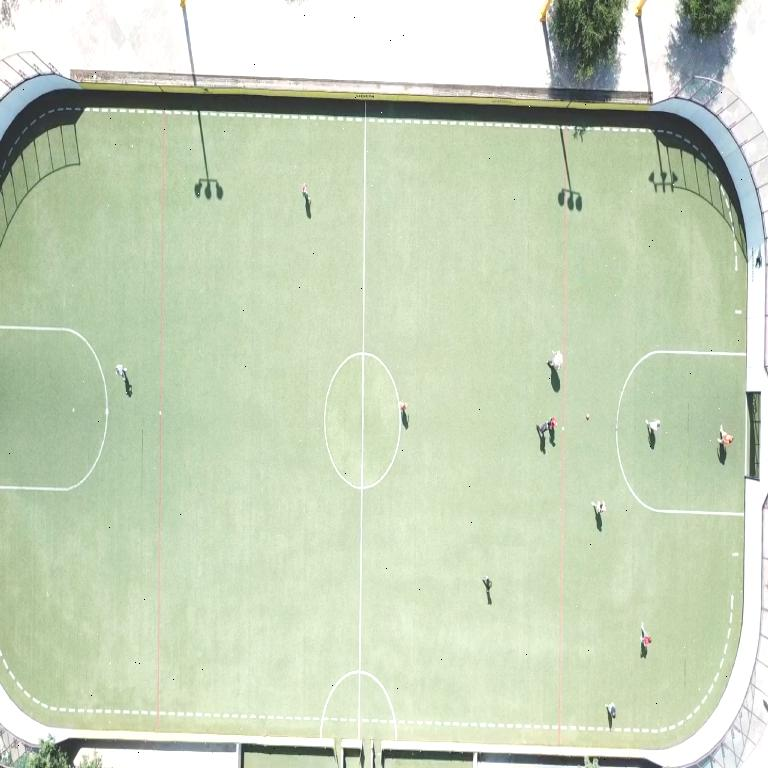AC: (617, 350, 745, 517), (0, 326, 108, 491)
B: (586, 414, 589, 419)
MC: (357, 103, 367, 739)
P: (717, 426, 733, 446), (642, 622, 651, 657), (482, 576, 492, 604), (548, 351, 562, 371), (646, 420, 660, 435), (592, 501, 605, 516), (116, 364, 127, 380), (302, 183, 310, 204), (606, 702, 616, 718), (548, 417, 557, 430), (537, 422, 547, 432), (400, 401, 407, 413)
